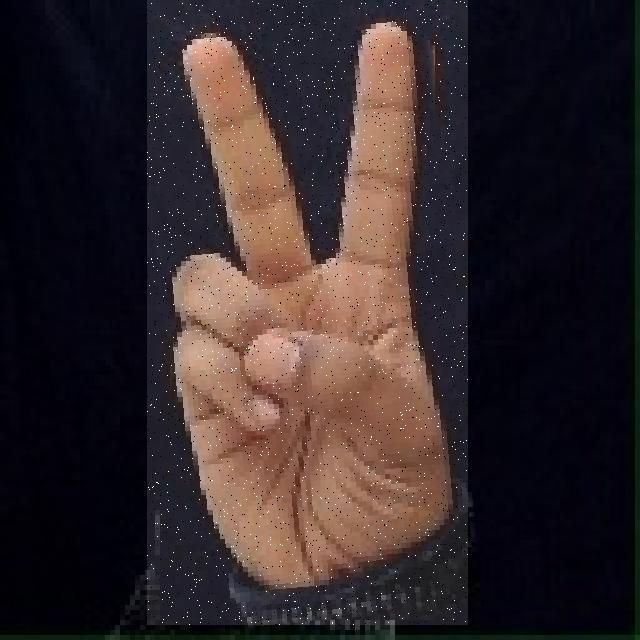No: (147, 0, 468, 625)
